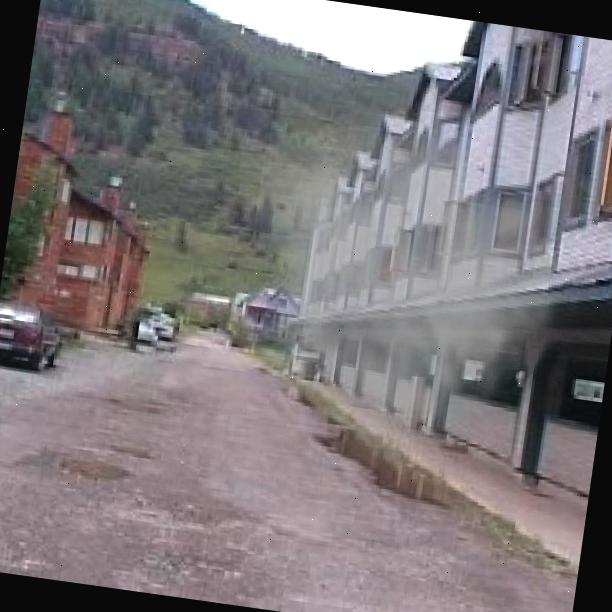smoke: (221, 64, 612, 503)
